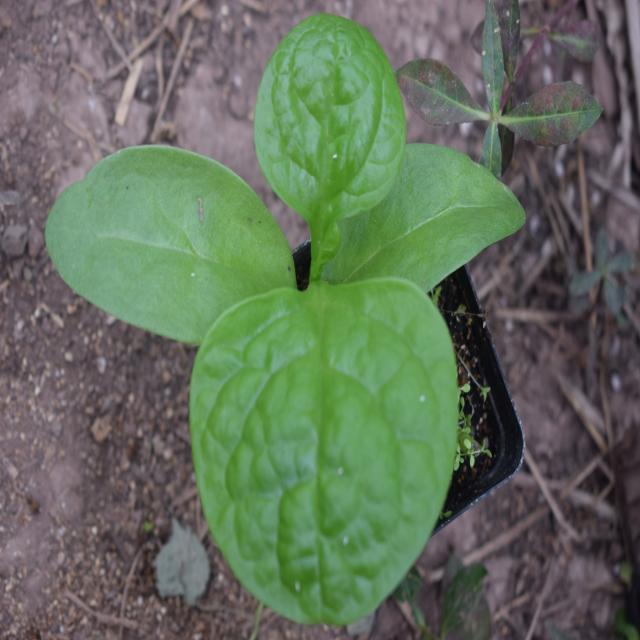Ceylon spinach: (80, 17, 408, 623)
